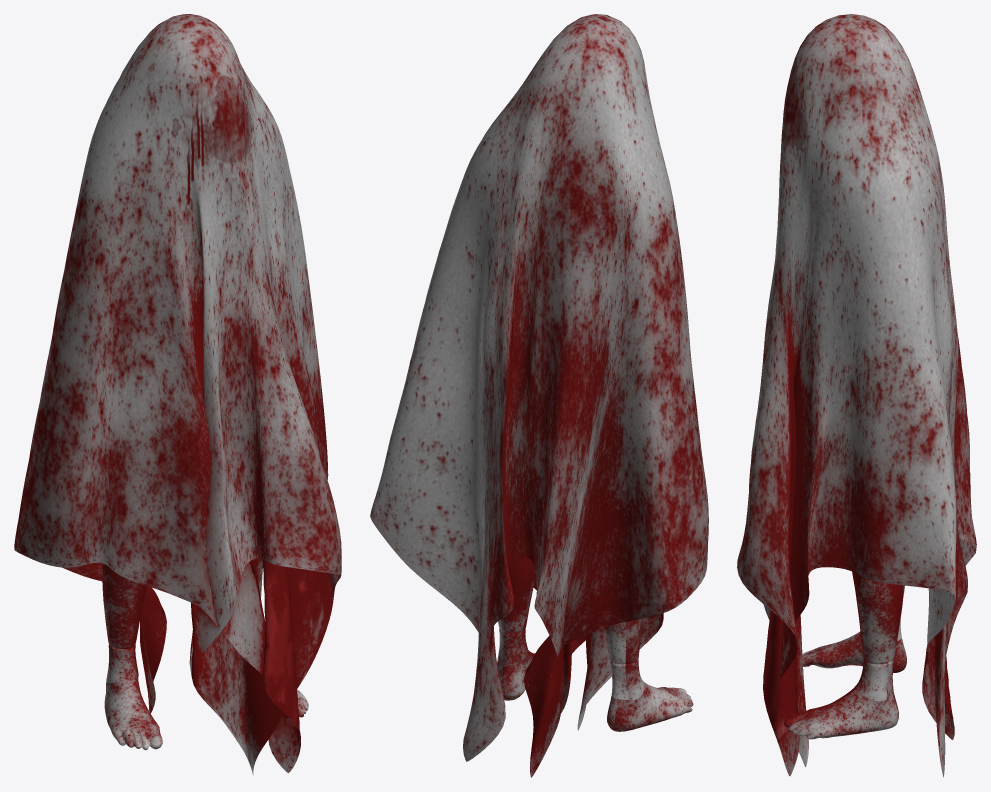
File: ghost.glb
3 renders of one model, left to right at view 1: azimuth 30°, elevation 25°; view 2: azimuth 150°, elevation 25°; view 3: azimuth 270°, elevation 25°, orthographic. The views are drawn at different scales.
Parts seen in each view (by area): view 1: Plane, Ch36; view 2: Plane, Ch36; view 3: Plane, Ch36.
Part boxes in pixels (bbox=[...]): Plane: bbox=[14, 14, 341, 775]; Ch36: bbox=[102, 558, 308, 750]; Plane: bbox=[370, 14, 708, 777]; Ch36: bbox=[497, 558, 693, 731]; Plane: bbox=[737, 14, 976, 777]; Ch36: bbox=[784, 571, 906, 739].
Size of the model in its own units: 1.16 by 2.7 by 0.8041.
Materials: 2 (2 with a texture image).
